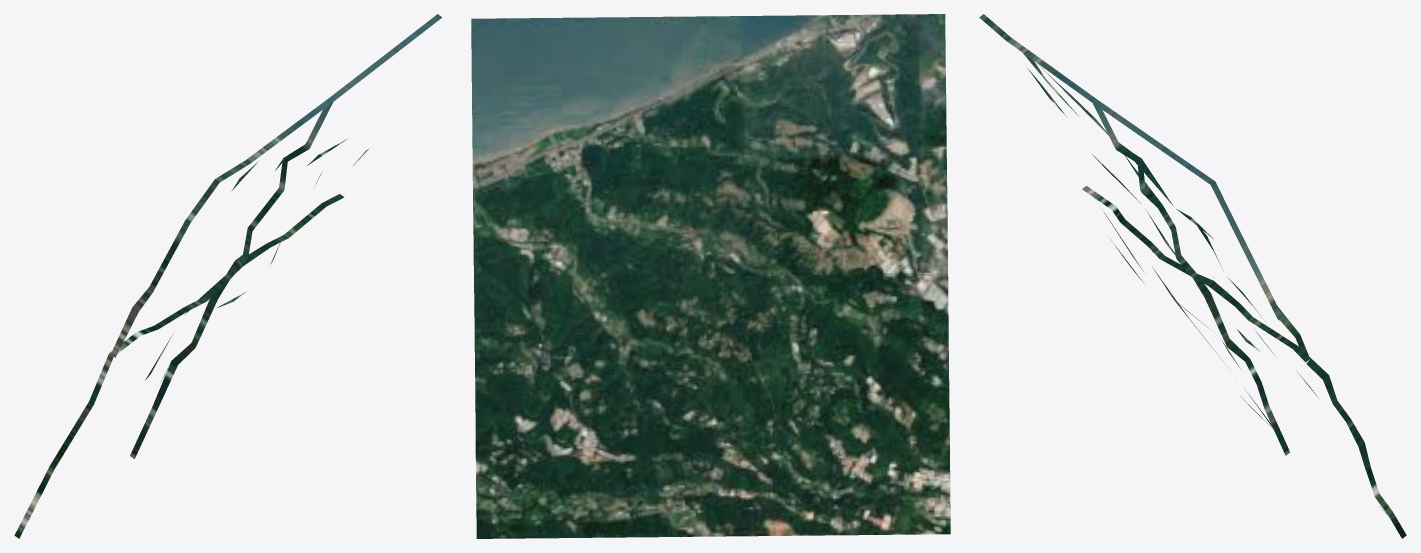
3 renders of one model, left to right at view 1: azimuth 30°, elevation 25°; view 2: azimuth 150°, elevation 25°; view 3: azimuth 270°, elevation 25°, orthographic. The views are drawn at different scales.
Size of the model in its own units: 5009 by 4407 by 4185.
1 material, 1 textured.
